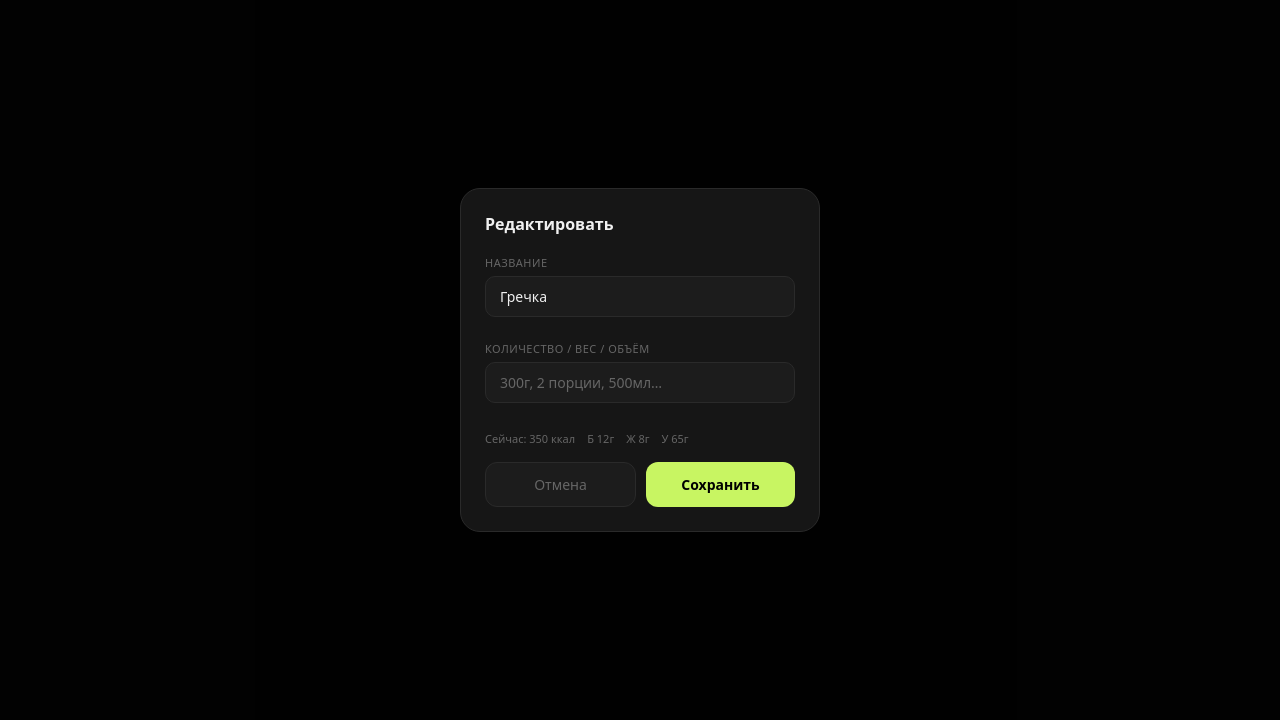
Test: EditMealModal › кнопка Сохранить disabled если название пустое
Clear the field showing "Гречка": x=640, y=296 [485,276,795,317]
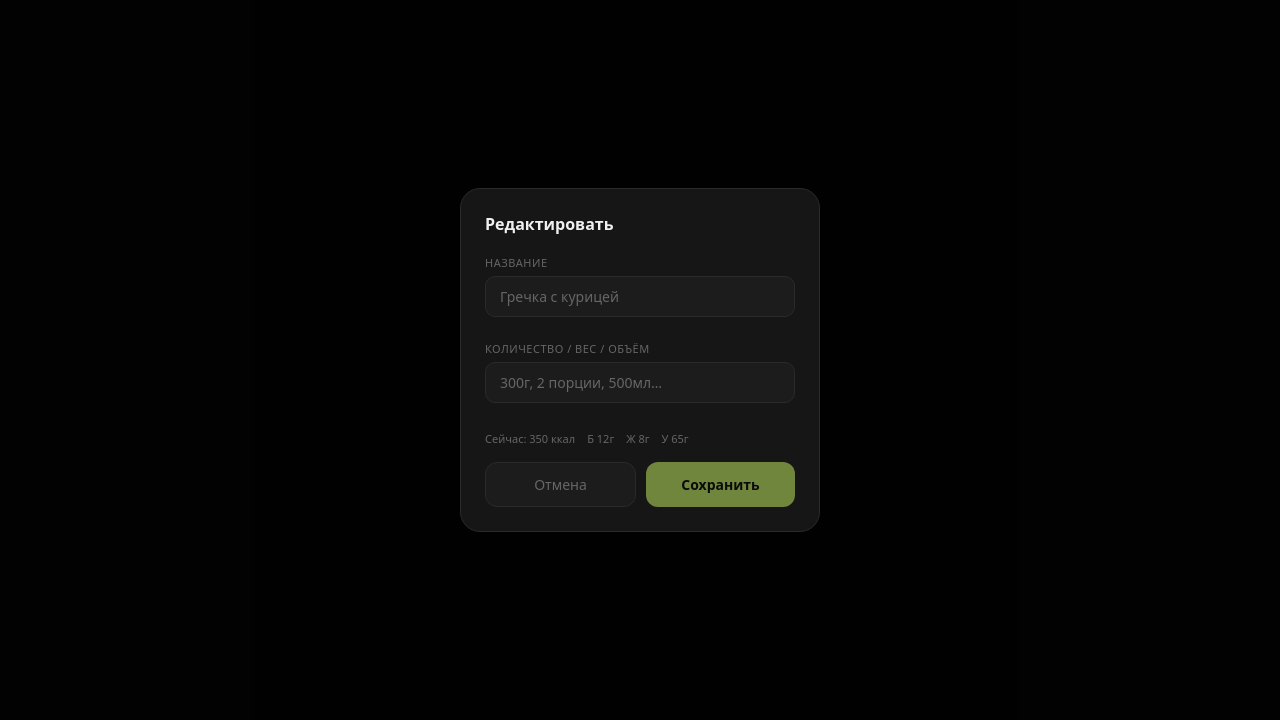
Now the button "Сохранить" is disabled, box [646,462,795,507]
